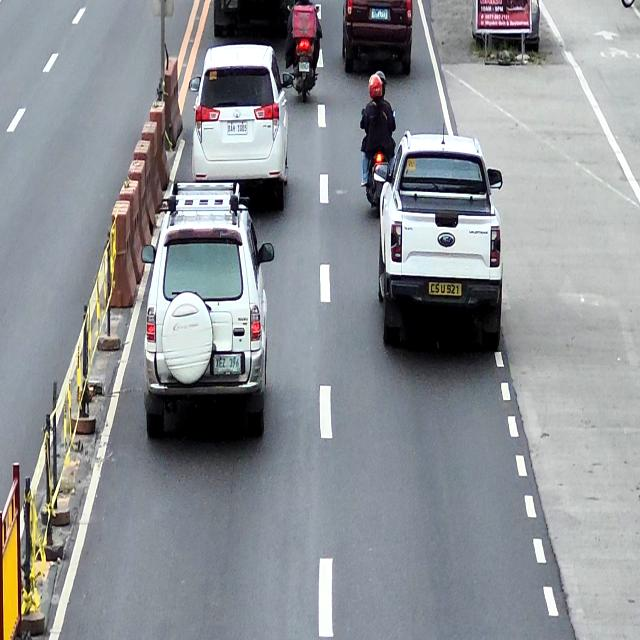Car: (142, 183, 274, 439), (372, 131, 503, 352), (190, 44, 294, 212), (341, 0, 413, 76)
License-Plate: (429, 282, 463, 296), (215, 355, 241, 373), (226, 123, 248, 135), (371, 8, 388, 21), (298, 62, 310, 74)
Motorcycle: (361, 107, 396, 212), (288, 5, 321, 102)
